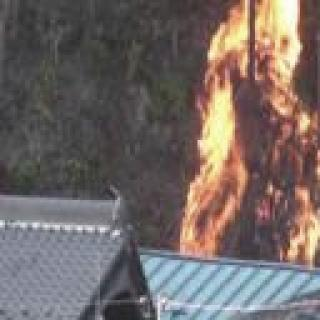fire: (185, 0, 320, 258)
